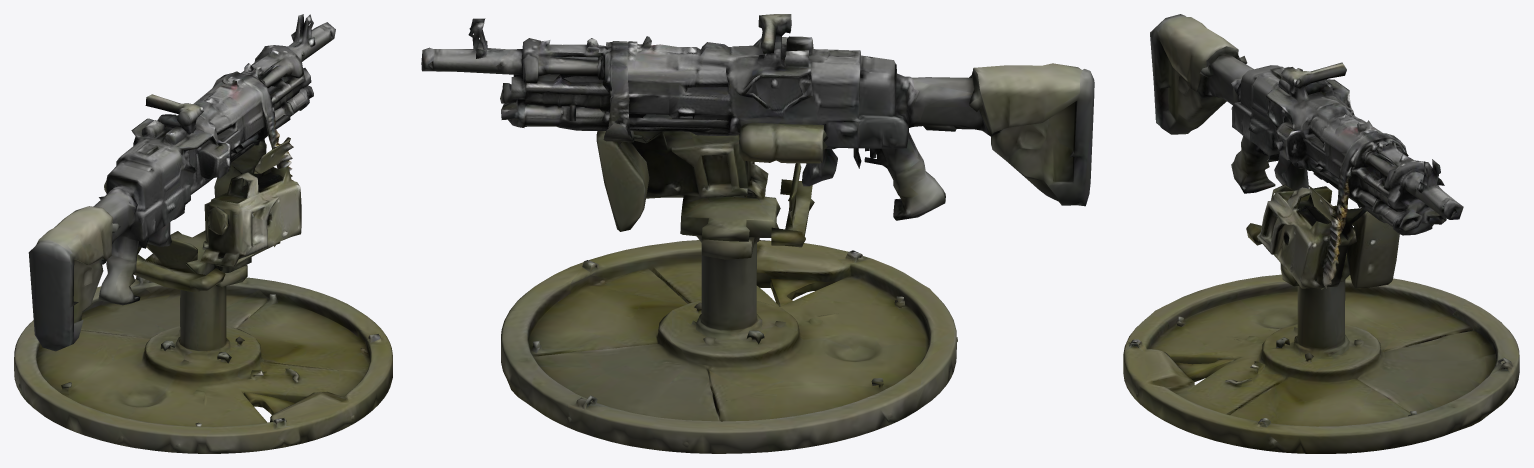
3 renders of one model, left to right at view 1: azimuth 30°, elevation 25°; view 2: azimuth 150°, elevation 25°; view 3: azimuth 270°, elevation 25°, orthographic. The views are drawn at different scales.
Visible parts, largest first — view 1: tripo_node_d136e0d6-1a53-4032-86c8-200870e4d881; view 2: tripo_node_d136e0d6-1a53-4032-86c8-200870e4d881; view 3: tripo_node_d136e0d6-1a53-4032-86c8-200870e4d881.
Boxes of the visible parts, bbox=[...] form: tripo_node_d136e0d6-1a53-4032-86c8-200870e4d881: bbox=[14, 14, 392, 453]; tripo_node_d136e0d6-1a53-4032-86c8-200870e4d881: bbox=[421, 14, 1094, 453]; tripo_node_d136e0d6-1a53-4032-86c8-200870e4d881: bbox=[1123, 14, 1519, 453].
Size of the model in its own units: 0.9803 by 0.6143 by 0.7619.
1 material, 1 textured.
